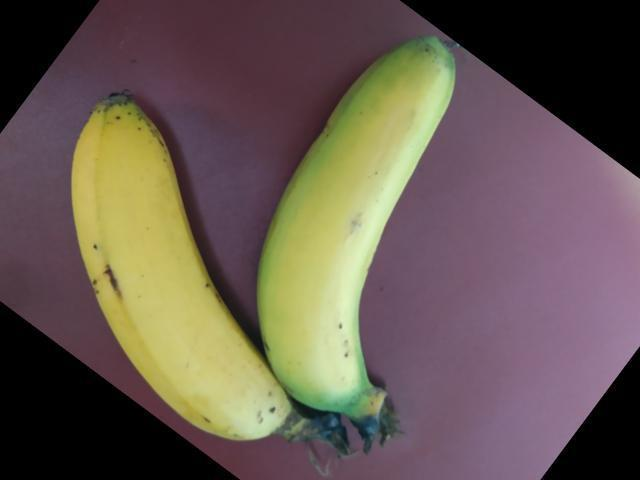freshripe: (261, 26, 485, 443), (71, 96, 289, 476)
